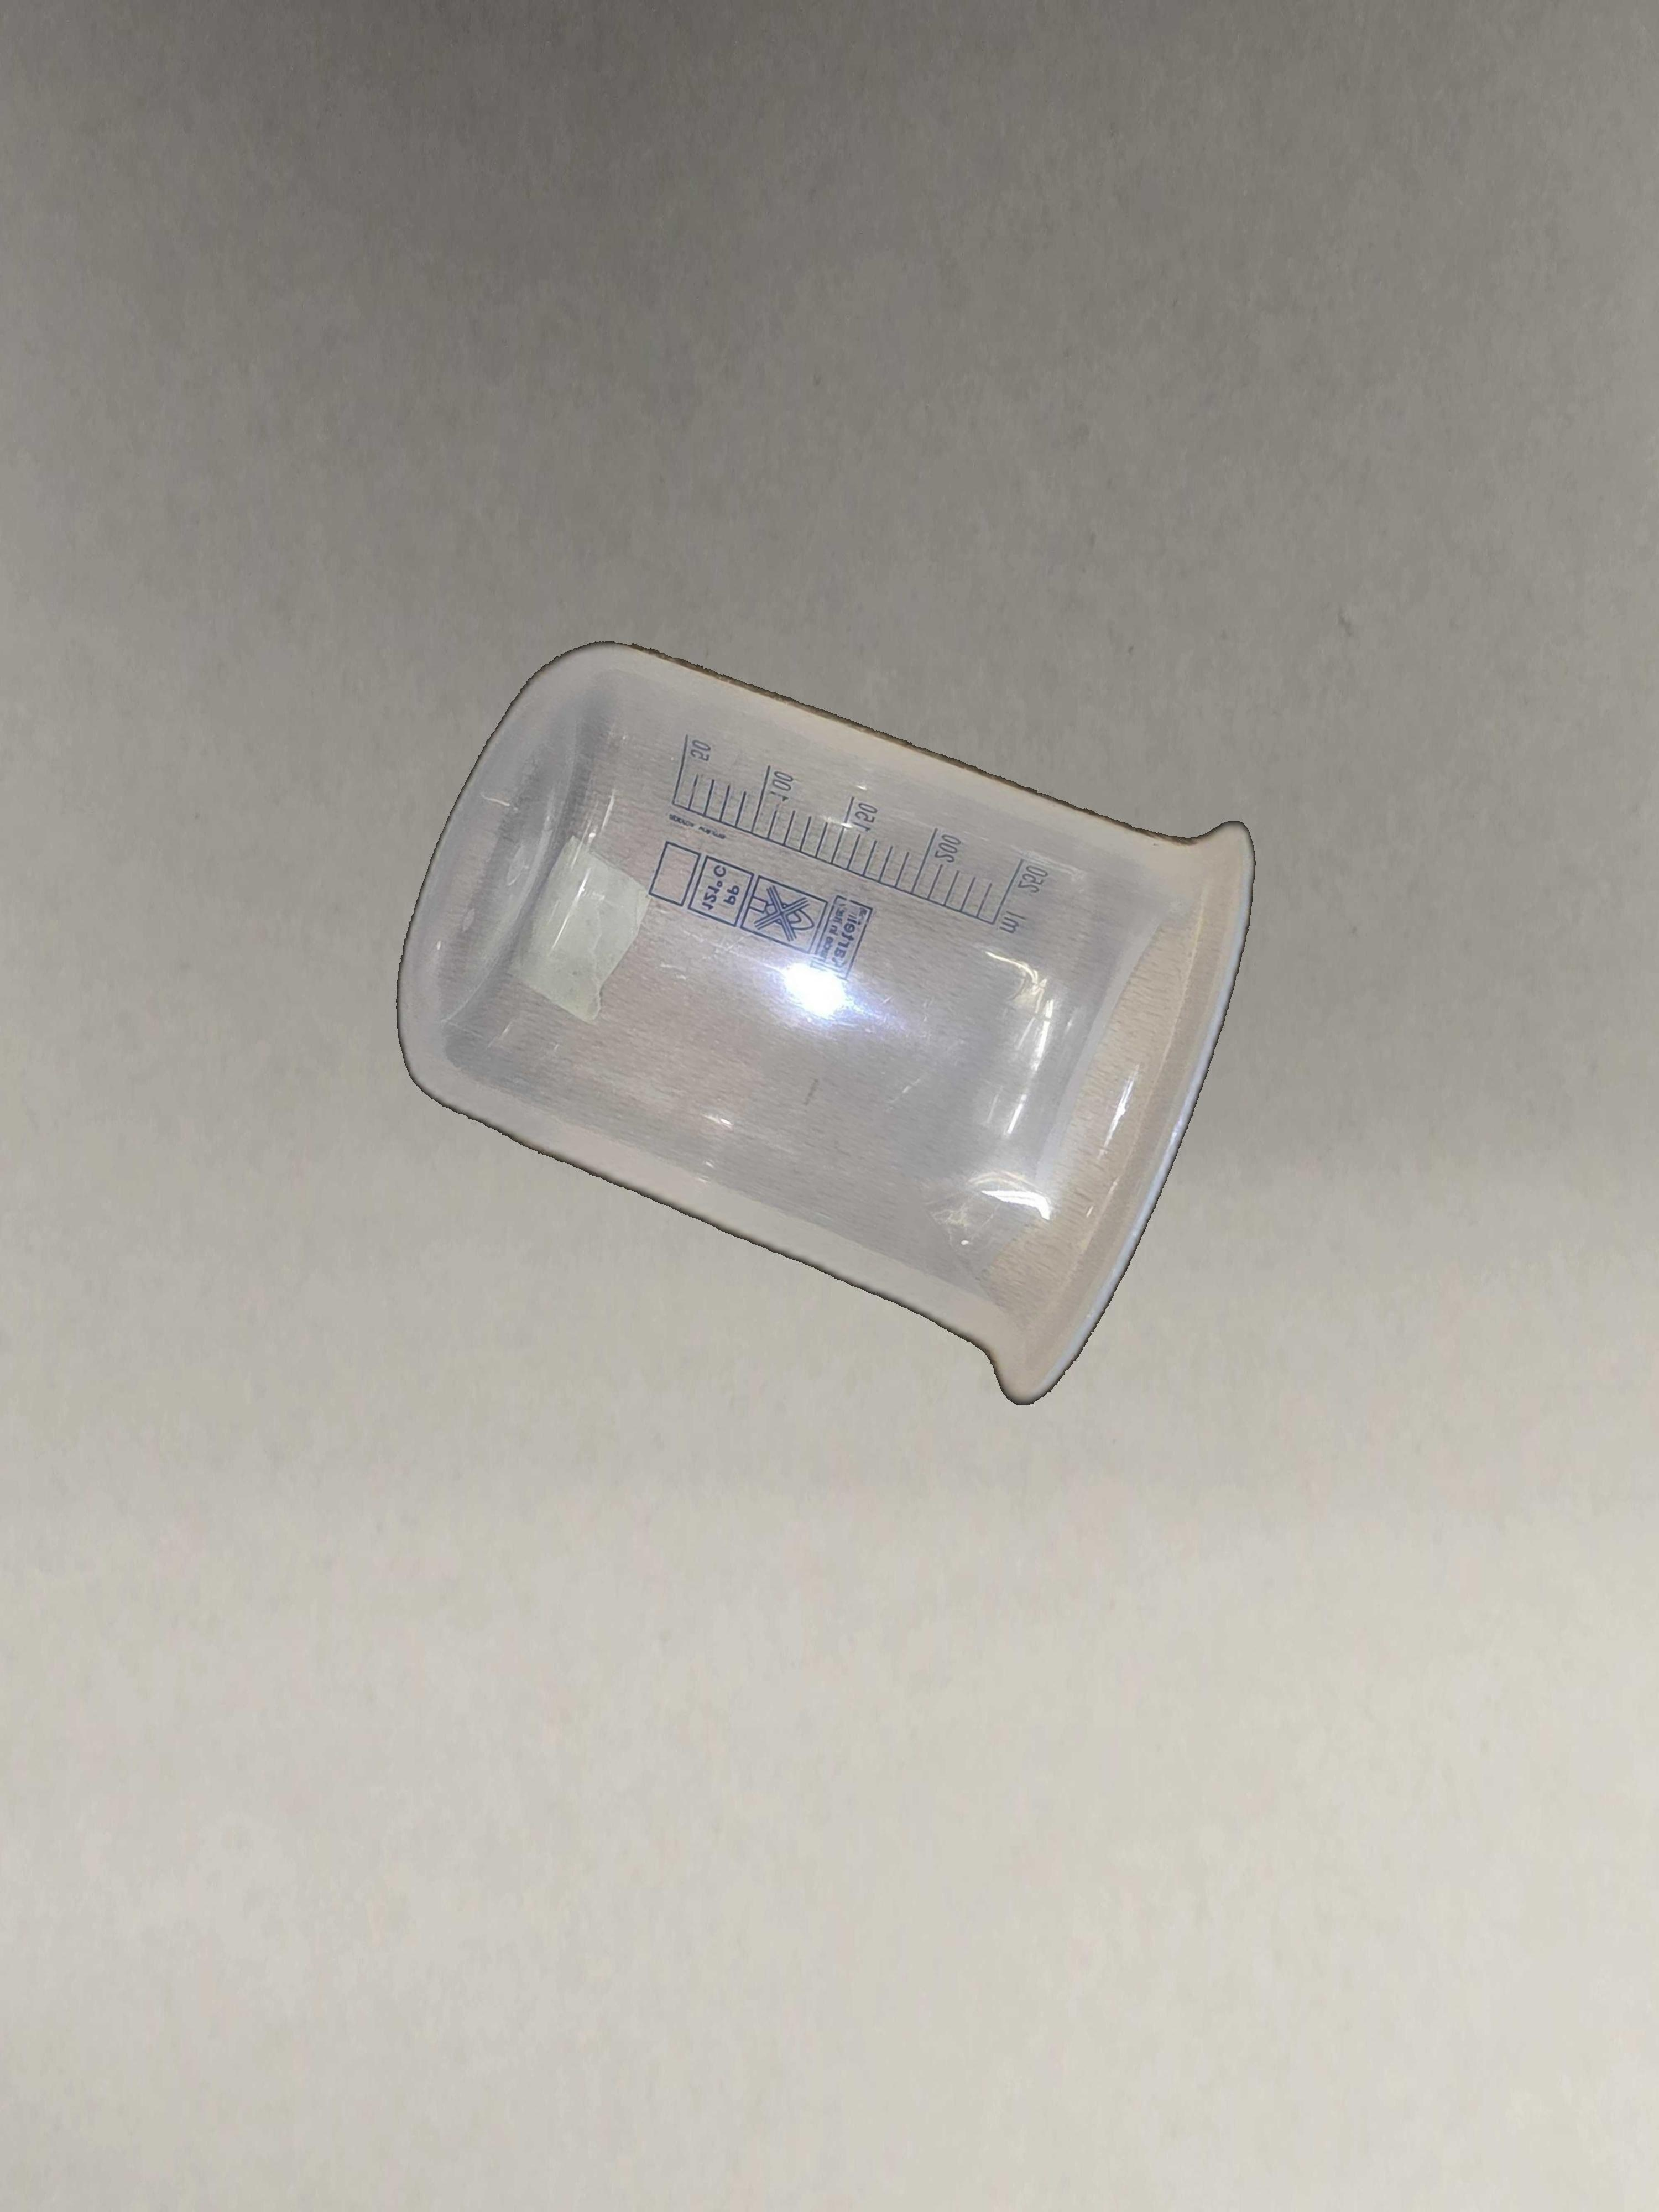becker: (394, 646, 1255, 1409)
